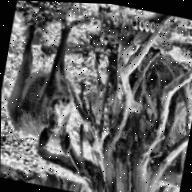boar: (0, 3, 95, 169)
